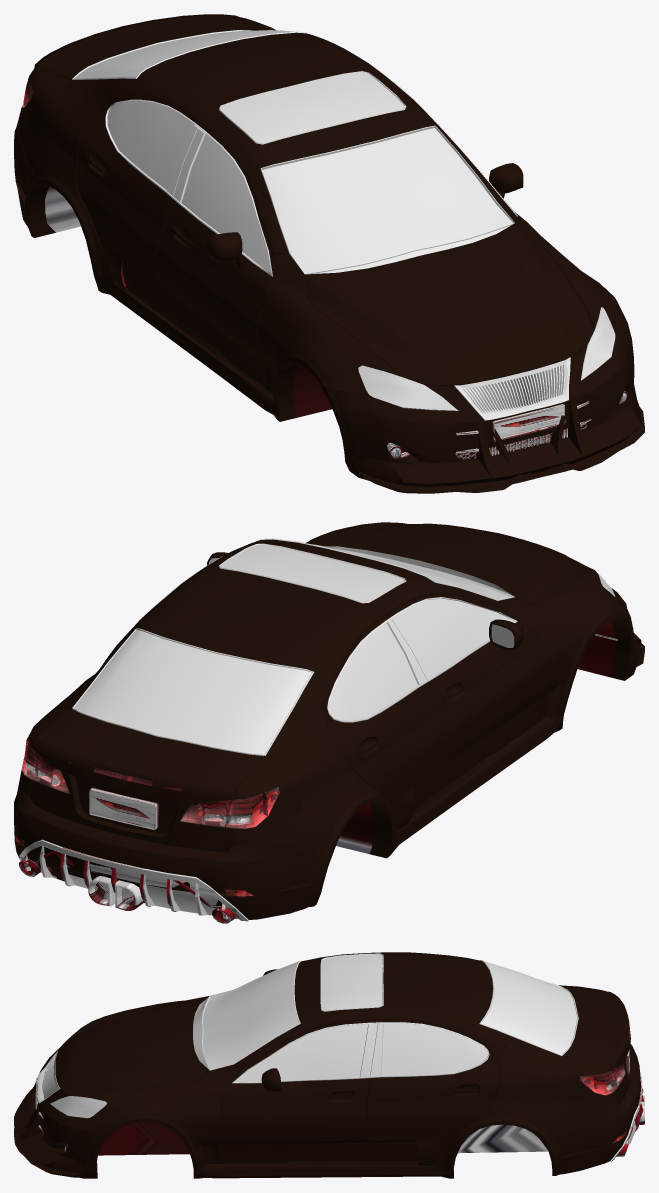
The model's file is Ninja.fbx.
3 views of the same model, one above another, from view 1: azimuth 30°, elevation 25°; view 2: azimuth 150°, elevation 25°; view 3: azimuth 270°, elevation 25° (orthographic). The views are drawn at different scales.
Parts seen in each view (by area): view 1: kit04_body, kit03_body, window, static_objects, kit01_body, front_lights_glass, kit02_body, kit03_objects, body, kit04_objects; view 2: kit03_body, kit04_body, window, kit04_objects, static_objects, kit01_body, kit03_objects, rear_lights, body, kit02_body; view 3: kit04_body, kit03_body, window, static_objects, kit03_objects, kit01_body, body, front_lights_glass, rear_lights, kit04_objects, kit02_body.
Boxes of the visible parts, x1=… form: kit04_body: x1=14, y1=14, x2=641, y2=486; kit03_body: x1=14, y1=14, x2=644, y2=493; window: x1=74, y1=30, x2=512, y2=274; static_objects: x1=72, y1=30, x2=570, y2=420; kit01_body: x1=14, y1=61, x2=628, y2=464; front_lights_glass: x1=358, y1=307, x2=615, y2=410; kit02_body: x1=122, y1=257, x2=627, y2=490; kit03_objects: x1=45, y1=186, x2=627, y2=457; body: x1=23, y1=168, x2=611, y2=463; kit04_objects: x1=400, y1=401, x2=591, y2=457; kit03_body: x1=14, y1=522, x2=644, y2=917; kit04_body: x1=14, y1=522, x2=641, y2=919; window: x1=73, y1=544, x2=514, y2=754; kit04_objects: x1=19, y1=634, x2=617, y2=921; static_objects: x1=72, y1=538, x2=517, y2=755; kit01_body: x1=19, y1=573, x2=548, y2=904; kit03_objects: x1=19, y1=621, x2=615, y2=923; rear_lights: x1=15, y1=734, x2=279, y2=896; body: x1=24, y1=560, x2=576, y2=893; kit02_body: x1=18, y1=619, x2=624, y2=905; kit04_body: x1=16, y1=952, x2=641, y2=1178; kit03_body: x1=14, y1=959, x2=640, y2=1177; window: x1=203, y1=954, x2=577, y2=1082; static_objects: x1=37, y1=953, x2=578, y2=1103; kit03_objects: x1=65, y1=1056, x2=643, y2=1170; kit01_body: x1=41, y1=1014, x2=633, y2=1163; body: x1=39, y1=1001, x2=630, y2=1163; front_lights_glass: x1=50, y1=1029, x2=106, y2=1117; rear_lights: x1=580, y1=1063, x2=626, y2=1142; kit04_objects: x1=35, y1=1020, x2=644, y2=1160; kit02_body: x1=14, y1=1103, x2=636, y2=1175.
Size of the model in its own units: 1.96 by 1.28 by 4.73.
5 materials, 4 textured.
